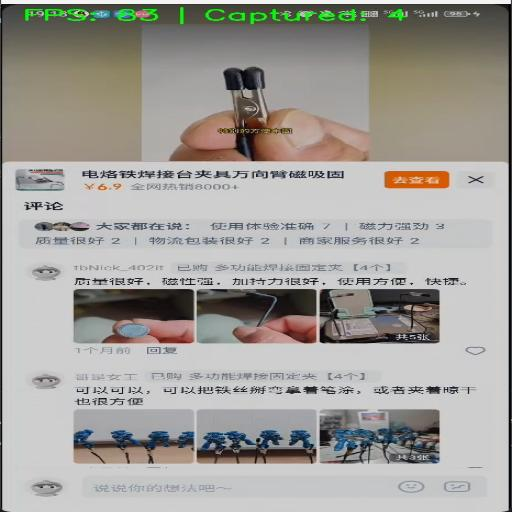butten: (383, 171, 447, 187)
close: (452, 168, 494, 189)
input: (84, 475, 397, 497)
